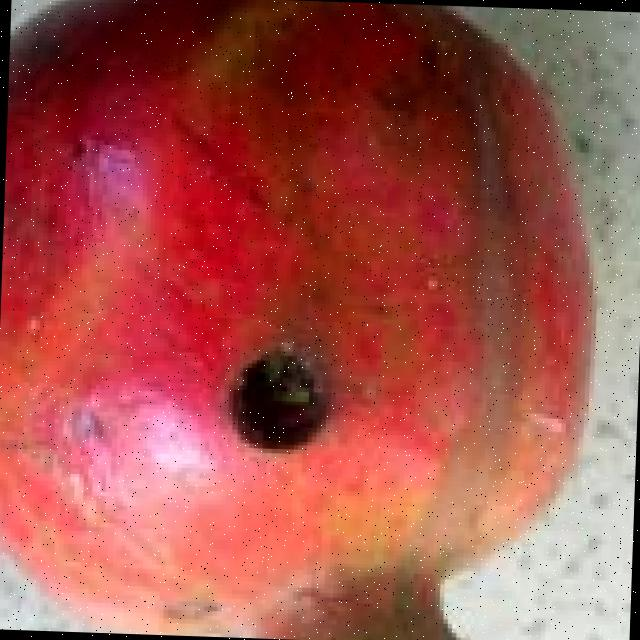Bad_Pomegranate-0-1-day: (0, 0, 598, 640)
